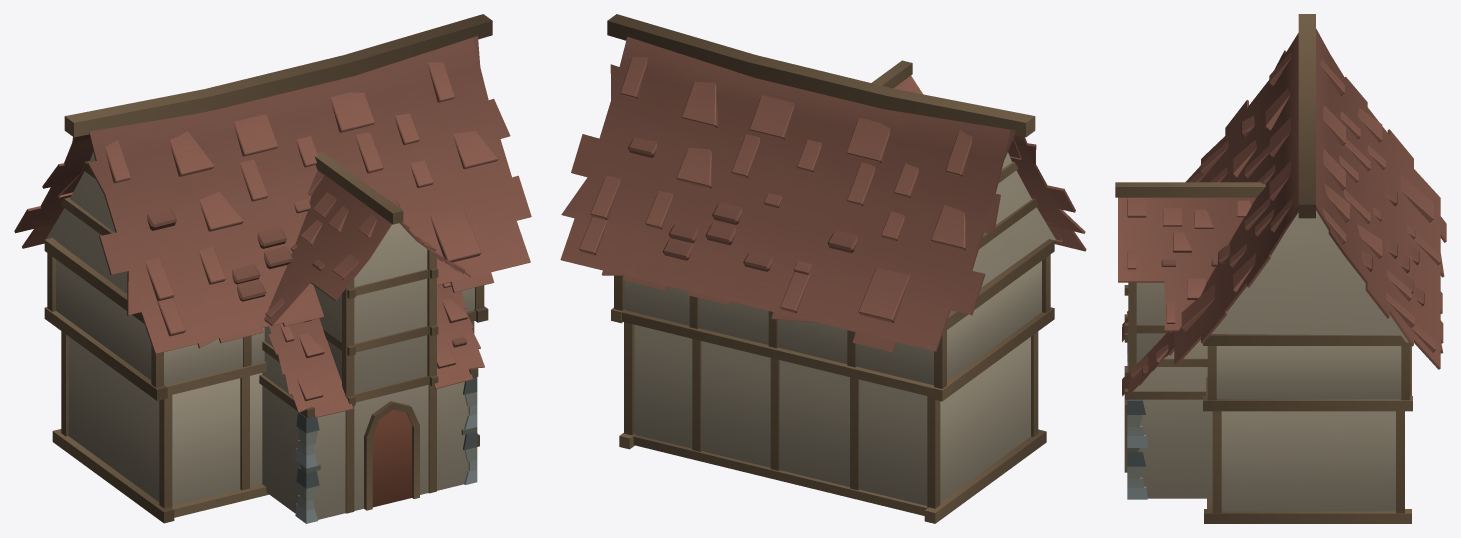
File: ZLP_Build_B_1.FBX
The picture shows the model from 3 angles, left to right: view 1: azimuth 30°, elevation 25°; view 2: azimuth 150°, elevation 25°; view 3: azimuth 270°, elevation 25°; orthographic projection. The views are drawn at different scales.
Visible parts, largest first — view 1: ZLP_Build_B_1; view 2: ZLP_Build_B_1; view 3: ZLP_Build_B_1.
Part boxes in pixels (x1,y1,x2,y2): ZLP_Build_B_1: (14, 14, 531, 523); ZLP_Build_B_1: (560, 14, 1086, 523); ZLP_Build_B_1: (1115, 14, 1446, 523).
Size of the model in its own units: 935 by 793 by 684.
